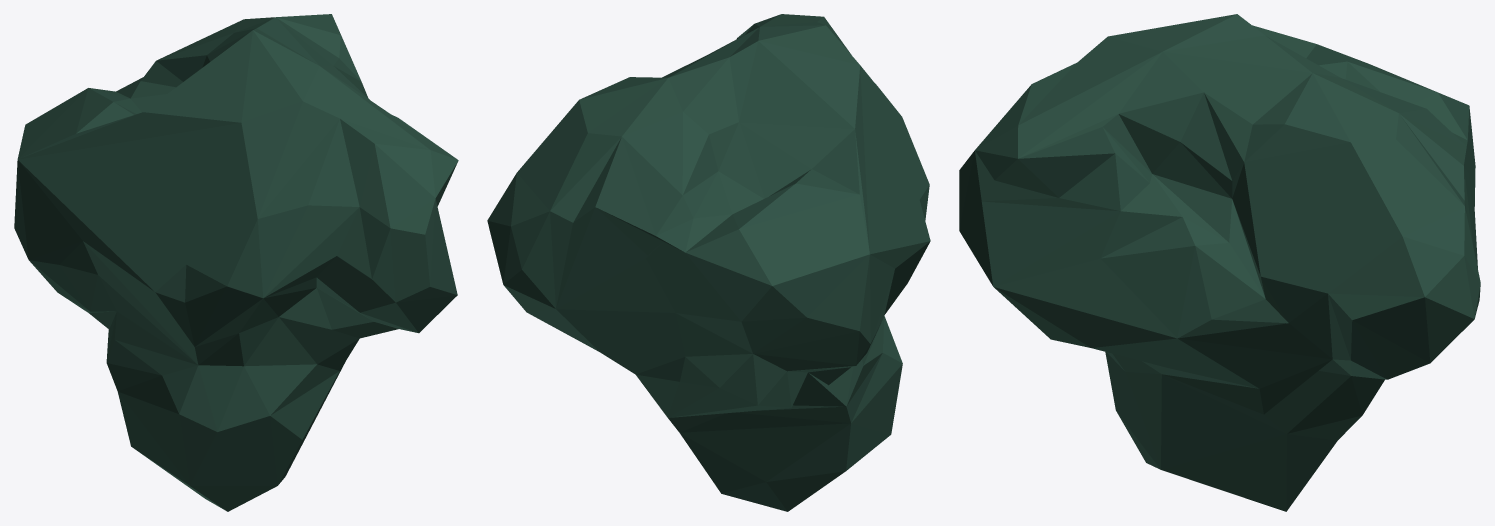
File: SM_large_rock_46.fbx
3 renders of one model, left to right at view 1: azimuth 30°, elevation 25°; view 2: azimuth 150°, elevation 25°; view 3: azimuth 270°, elevation 25°, orthographic. The views are drawn at different scales.
Visible parts, largest first — view 1: large_rock_46; view 2: large_rock_46; view 3: large_rock_46.
Boxes of the visible parts, <box> form: large_rock_46: <box>14,14,458,511</box>; large_rock_46: <box>487,14,930,511</box>; large_rock_46: <box>959,14,1480,511</box>.
Bounding box in the file's own units: 63.19 × 76.92 × 71.75.
